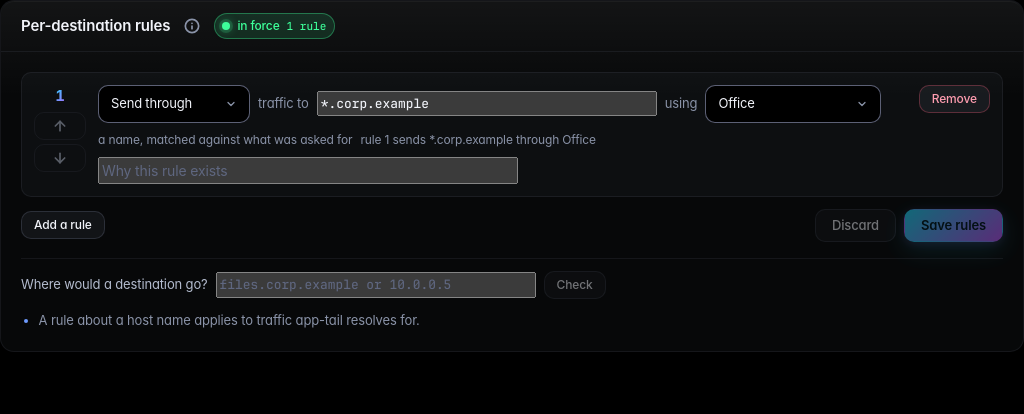
Test: asking where a destination goes › says why a destination could not be checked
In the field labelled "Where would a destination go?": (376, 285) x1=216 y1=272 x2=536 y2=298, type "???"
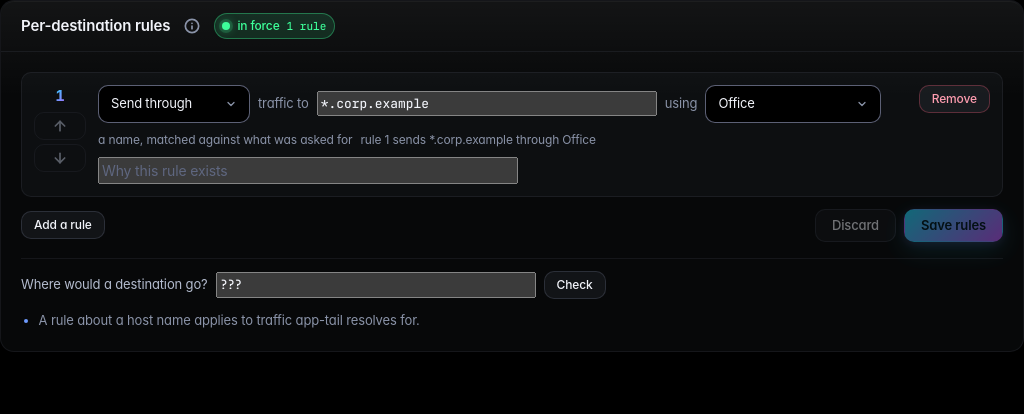
Click the button "Check": (575, 285) x1=544 y1=271 x2=606 y2=299
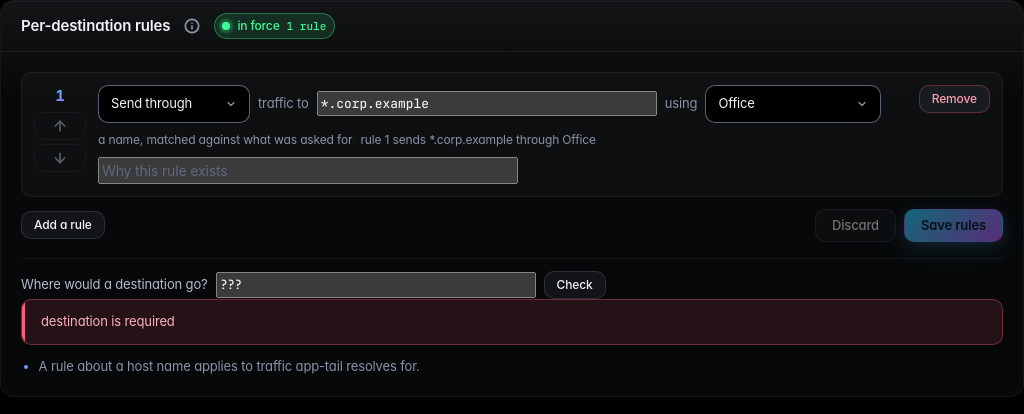
Expected: the text "destination is required" is shown, x1=21 y1=299 x2=1003 y2=344
